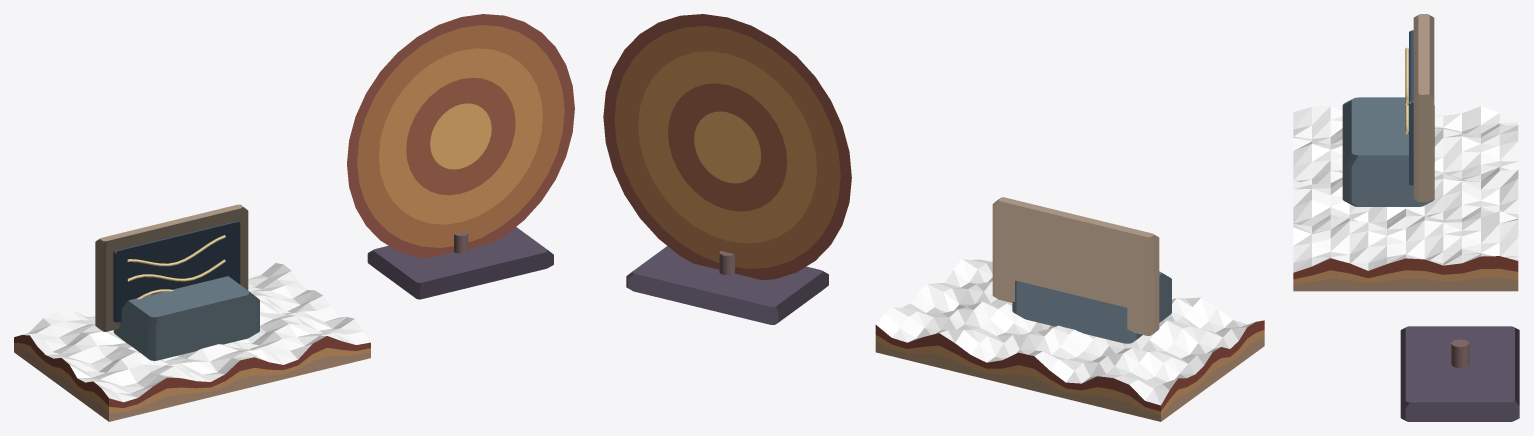
Rendered from insight-capas.obj.
The picture shows the model from 3 angles, left to right: view 1: azimuth 30°, elevation 25°; view 2: azimuth 150°, elevation 25°; view 3: azimuth 270°, elevation 25°; orthographic projection. The views are drawn at different scales.
Parts seen in each view (by area): view 1: insight-capas; view 2: insight-capas; view 3: insight-capas.
Part boxes in pixels (x1,y1,x2,y2): insight-capas: (14,14,574,421); insight-capas: (603,14,1264,421); insight-capas: (1293,14,1519,421).
Bounding box in the file's own units: 1.66 × 0.74 × 0.513.
